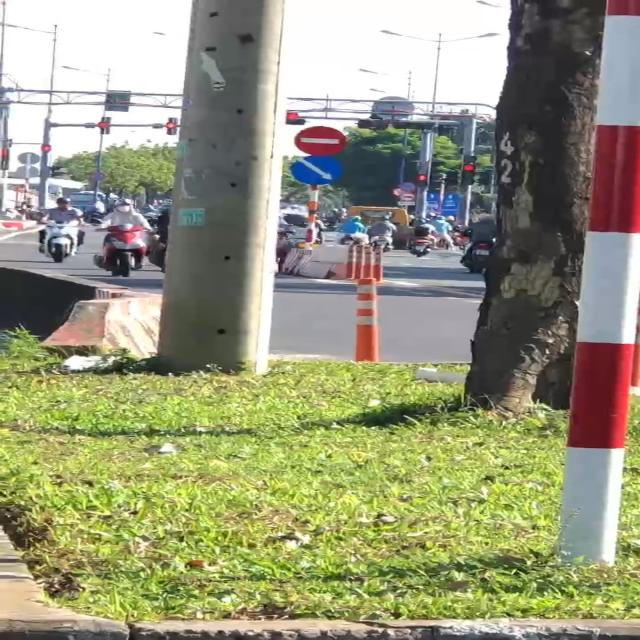Bien bao cam di nguoc chieu: (286, 122, 356, 158)
Bien bao huong phai di vong chuong ngai vat: (290, 158, 349, 189)
